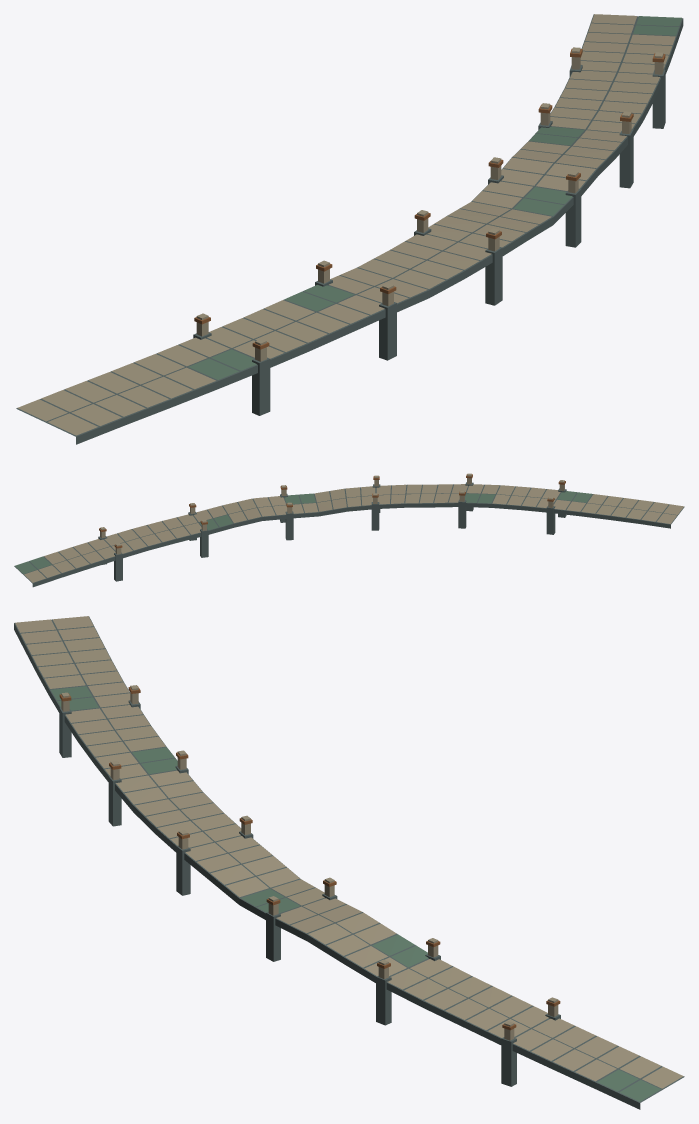
Rendered from 1_pilgrims_cross_0.glb.
3 renders of one model, top to bottom at view 1: azimuth 30°, elevation 25°; view 2: azimuth 150°, elevation 25°; view 3: azimuth 270°, elevation 25°, orthographic. The views are drawn at different scales.
Visible parts, largest first — view 1: Detail_9_11, Deck_9_11-col, Detail_9_12, Deck_9_12-col; view 2: Detail_9_11, Deck_9_11-col, Detail_9_12, Deck_9_12-col, Detail_8_11; view 3: Detail_9_11, Deck_9_11-col, Detail_9_12, Deck_9_12-col.
Boxes of the visible parts, <box> form: Detail_9_11: <box>41,14,683,415</box>; Deck_9_11-col: <box>156,14,682,381</box>; Detail_9_12: <box>71,367,217,444</box>; Deck_9_12-col: <box>16,362,217,436</box>; Detail_9_11: <box>15,473,661,587</box>; Deck_9_11-col: <box>14,484,592,583</box>; Detail_9_12: <box>587,494,668,512</box>; Deck_9_12-col: <box>581,494,684,524</box>; Detail_8_11: <box>640,513,676,528</box>; Detail_9_11: <box>49,627,683,1109</box>; Deck_9_11-col: <box>49,682,684,1102</box>; Detail_9_12: <box>14,623,85,696</box>; Deck_9_12-col: <box>14,616,123,689</box>.
Size of the model in its own units: 35.3 by 4.61 by 24.29.
